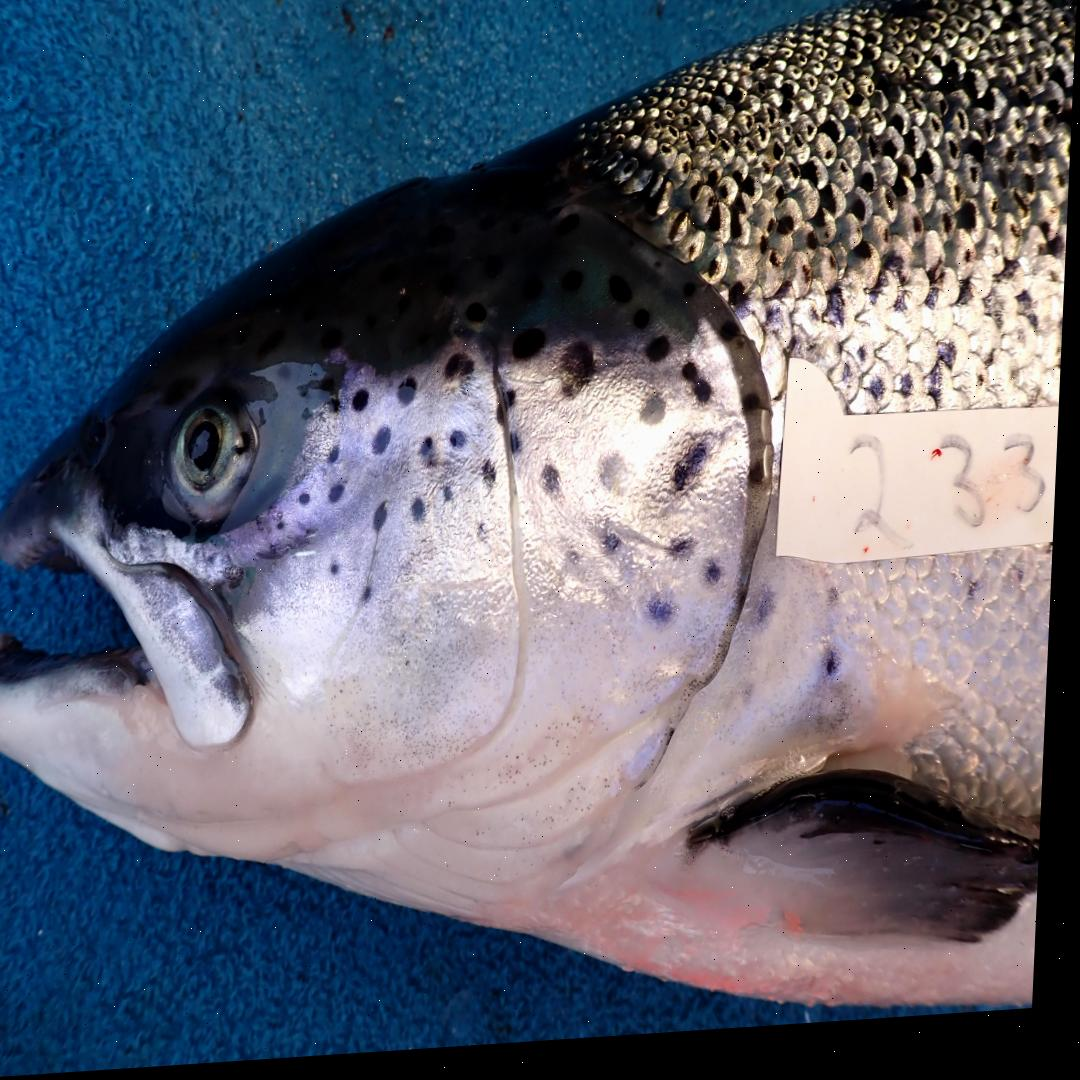spot: (675, 449, 714, 503), (563, 350, 599, 406), (686, 370, 716, 414), (605, 462, 632, 504), (515, 335, 549, 368), (498, 389, 521, 433), (671, 540, 704, 570), (653, 603, 682, 636), (752, 466, 778, 499), (449, 359, 478, 386), (645, 404, 671, 434), (649, 346, 674, 373), (605, 536, 627, 565), (546, 472, 566, 501), (424, 443, 444, 472), (746, 402, 773, 423), (376, 433, 396, 460), (402, 382, 420, 409), (378, 507, 393, 536), (453, 435, 473, 456), (415, 502, 431, 528), (355, 394, 373, 417), (710, 571, 727, 595), (572, 555, 587, 582), (724, 331, 743, 352), (487, 466, 500, 495), (447, 483, 460, 509), (331, 398, 347, 419), (332, 488, 348, 507), (514, 438, 525, 462), (334, 565, 348, 582), (481, 529, 491, 548), (332, 451, 343, 468), (368, 589, 378, 607), (302, 498, 316, 510), (281, 524, 290, 533)
